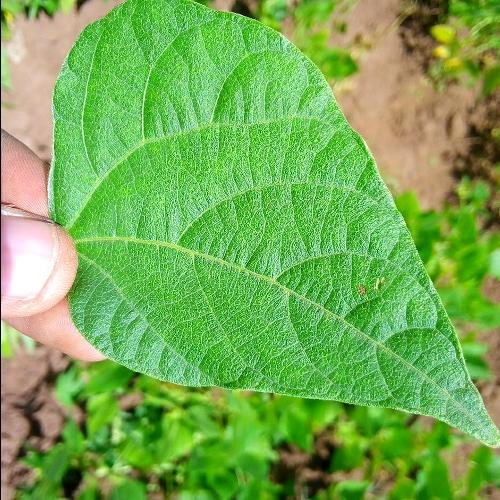hawar: (338, 252, 397, 328)
sehat: (87, 62, 296, 332)
